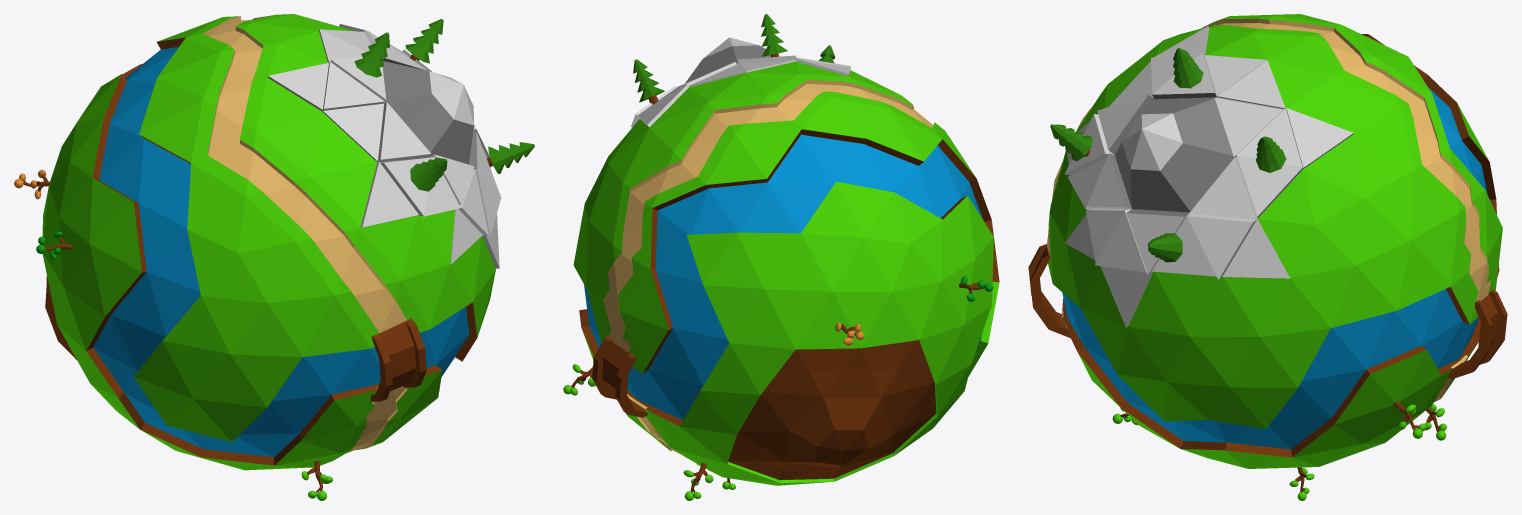
The model's file is worldV4.5.fbx.
The picture shows the model from 3 angles, left to right: view 1: azimuth 30°, elevation 25°; view 2: azimuth 150°, elevation 25°; view 3: azimuth 270°, elevation 25°; orthographic projection. The views are drawn at different scales.
Visible parts, largest first — view 1: Icosphere; view 2: Icosphere; view 3: Icosphere.
Boxes of the visible parts, x1,y1,x2,y2 form: Icosphere: (14, 14, 534, 500); Icosphere: (563, 14, 999, 500); Icosphere: (1028, 14, 1507, 500).
Bounding box in the file's own units: 790 × 810 × 762.
